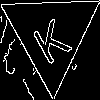K: (26, 9, 72, 66)
